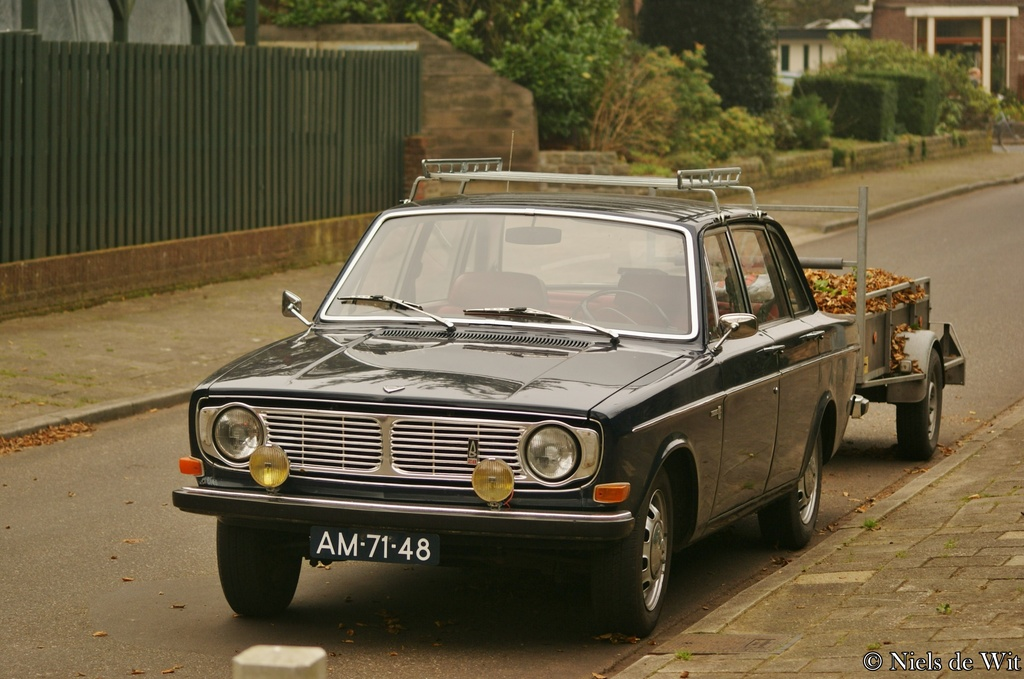Car: (169, 125, 865, 638)
